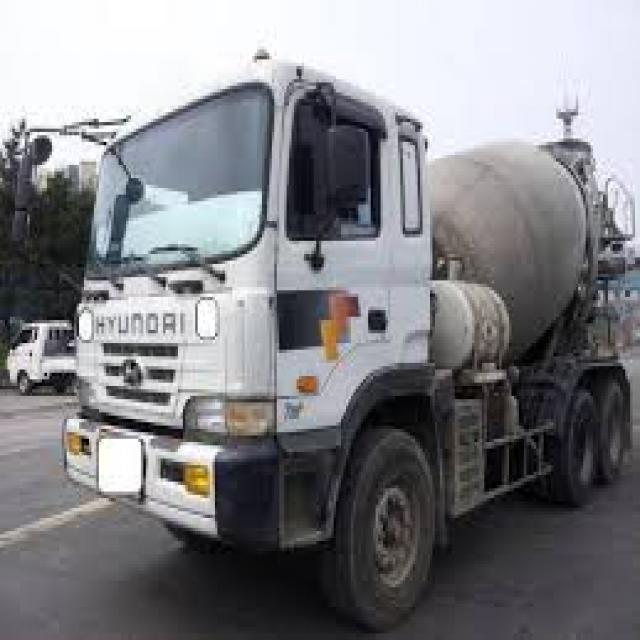Mixer Truck: (60, 46, 635, 632)
